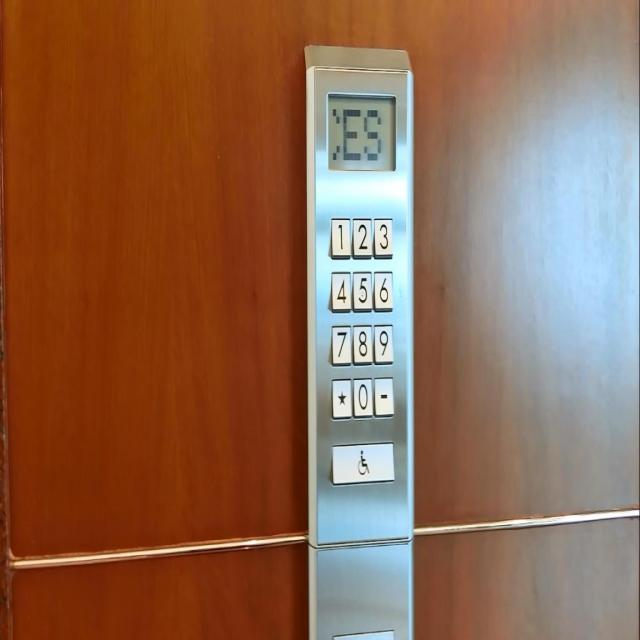-: (373, 374, 394, 419)
0: (352, 375, 372, 419)
1: (330, 217, 351, 259)
2: (352, 216, 372, 260)
3: (372, 215, 393, 257)
4: (330, 269, 351, 313)
5: (351, 268, 372, 314)
6: (372, 268, 393, 312)
7: (331, 323, 351, 365)
8: (352, 323, 373, 365)
9: (373, 322, 394, 364)
CH: (330, 440, 396, 486)
led: (325, 89, 397, 173)
s: (331, 375, 352, 420)
